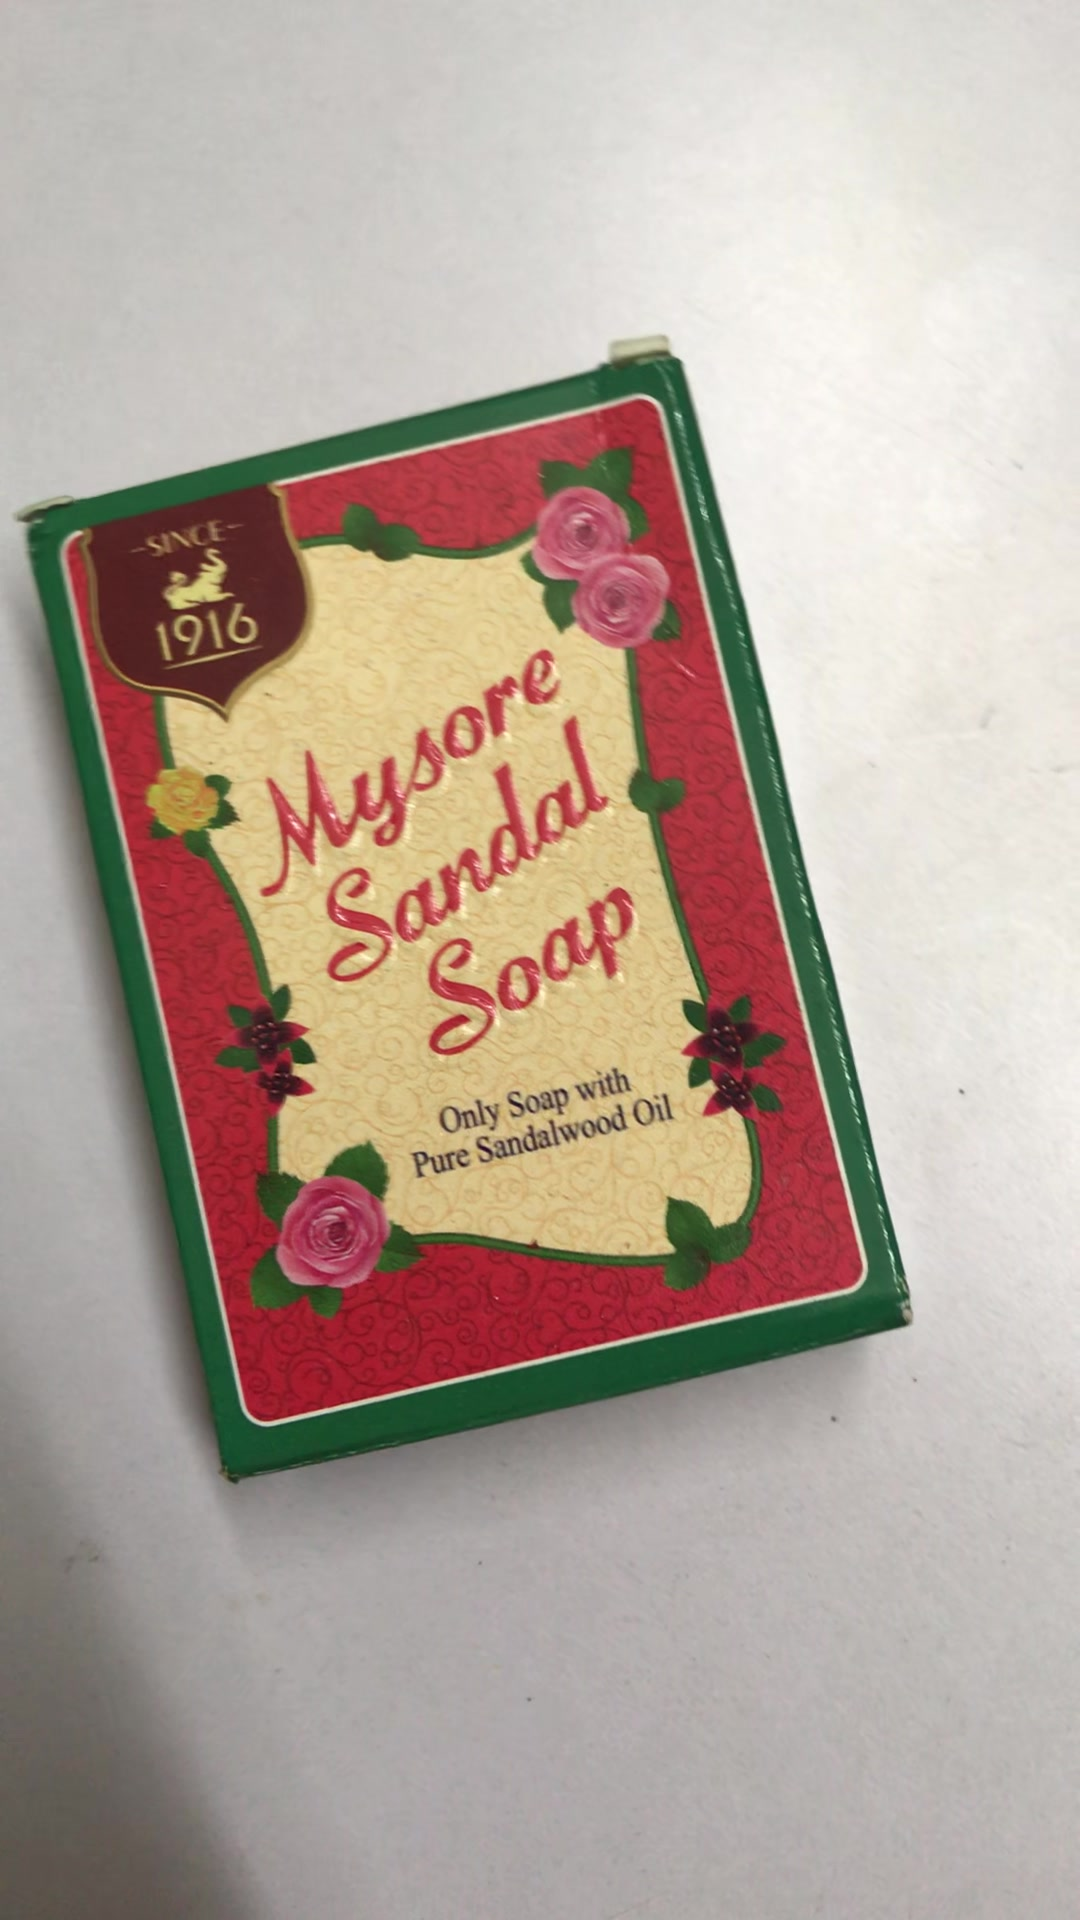mysore sandal soap: (26, 344, 913, 1484)
